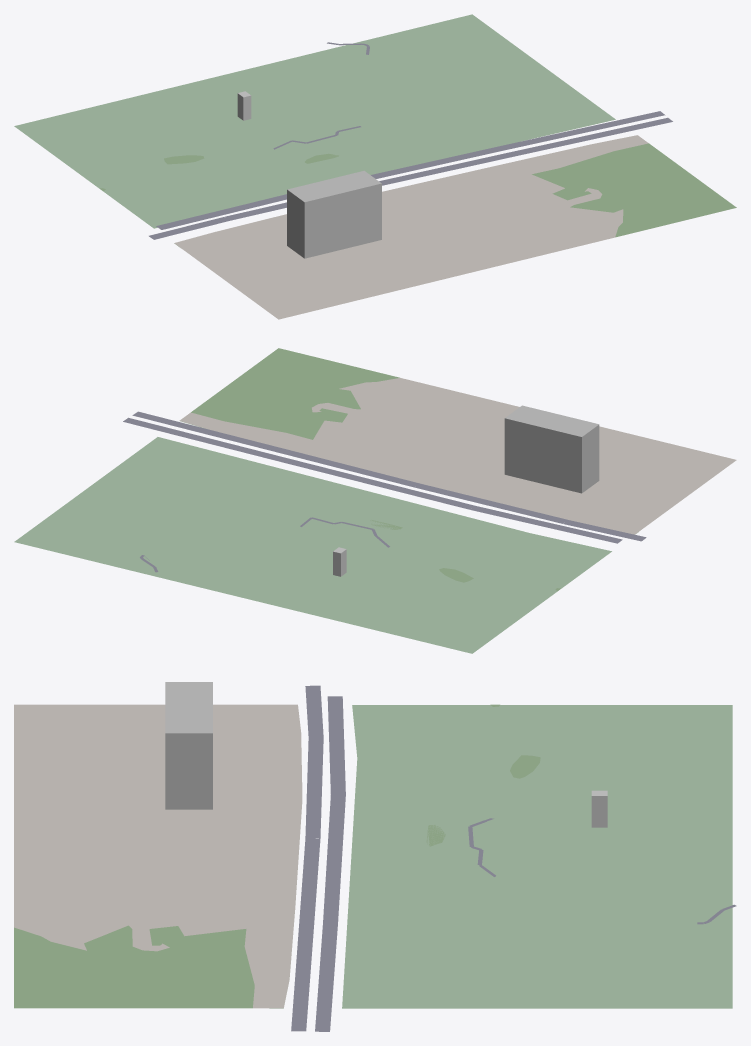
File: 119_80_mid.glb
3 renders of one model, top to bottom at view 1: azimuth 30°, elevation 25°; view 2: azimuth 150°, elevation 25°; view 3: azimuth 270°, elevation 25°, orthographic. The views are drawn at different scales.
Size of the model in its own units: 562 by 59.37 by 503.
